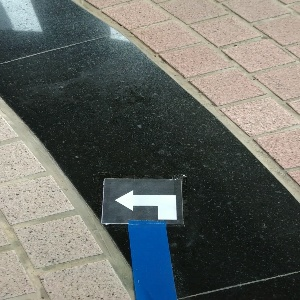left: (102, 178, 182, 225)
